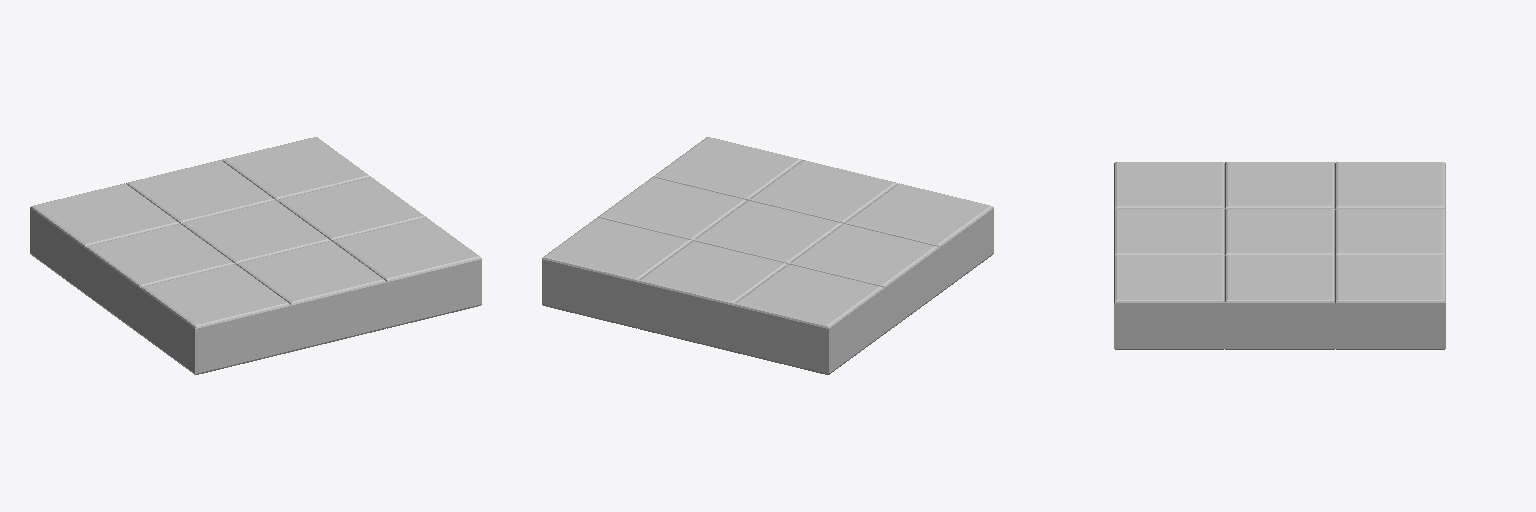
The model's file is tileBrickB_large.obj.
3 renders of one model, left to right at view 1: azimuth 30°, elevation 25°; view 2: azimuth 150°, elevation 25°; view 3: azimuth 270°, elevation 25°, orthographic.
Parts seen in each view (by area): view 1: tileBrickB_large_Cube.3228; view 2: tileBrickB_large_Cube.3228; view 3: tileBrickB_large_Cube.3228.
Part boxes in pixels (x1,y1,x2,y2): tileBrickB_large_Cube.3228: (30, 137, 481, 374); tileBrickB_large_Cube.3228: (542, 137, 993, 374); tileBrickB_large_Cube.3228: (1114, 162, 1445, 349).
Size of the model in its own units: 6 by 1 by 6.